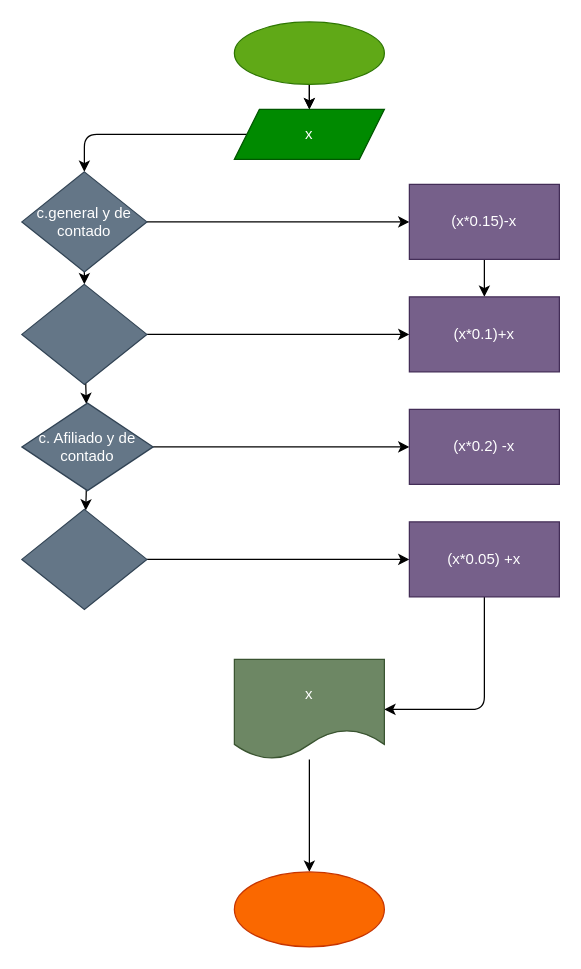
The diagram is 581 pixels wide and 969 high, and some of its shapes have lost their labels. The shapes that lost their labels are listed below. From the top down, each one's box as (x1, y1, x2, y2) in pixels, then its label:
(233, 21, 384, 84): INICIO
(21, 283, 147, 384): c. general y a plazos
(21, 508, 147, 609): c.Afiliado y a plazos
(233, 871, 384, 947): FIN
